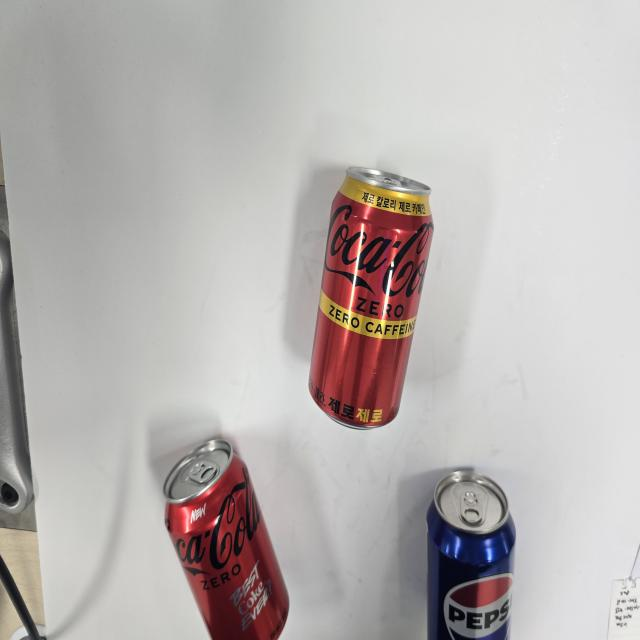can_coke_decaf: (308, 167, 434, 429)
can_coke_zero: (163, 439, 289, 640)
can_pepsi: (426, 470, 516, 640)
